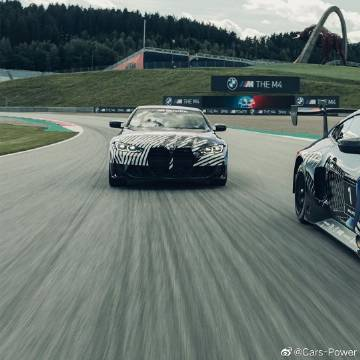other: (110, 100, 229, 191)
